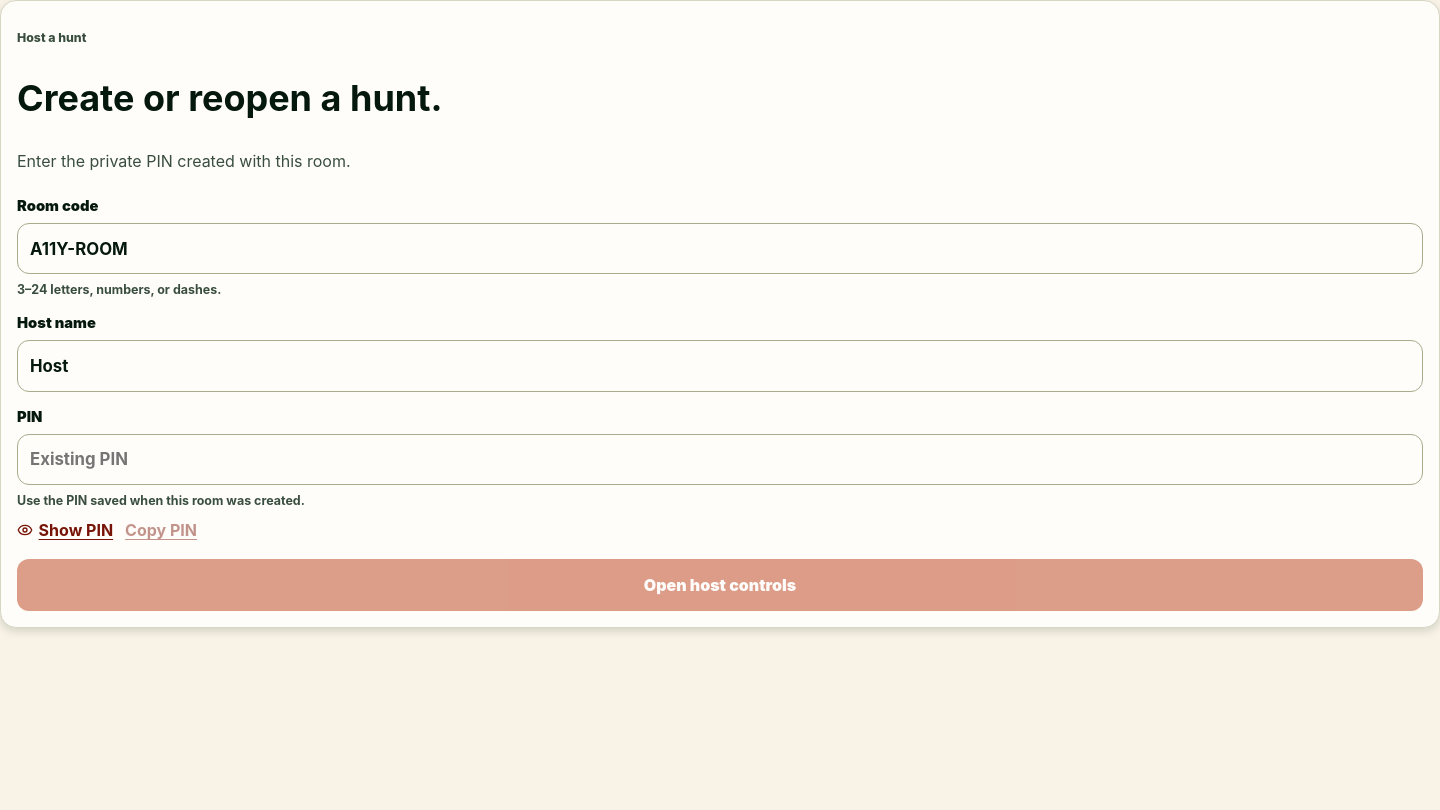
Test case: focused interaction accessibility › reveals and copies the host PIN with clear state and feedback
This screenshot has width=1440, height=810.
Step 1. Type "24681012" into the password field labelled "PIN" → (720,459), box [17, 434, 1423, 485]
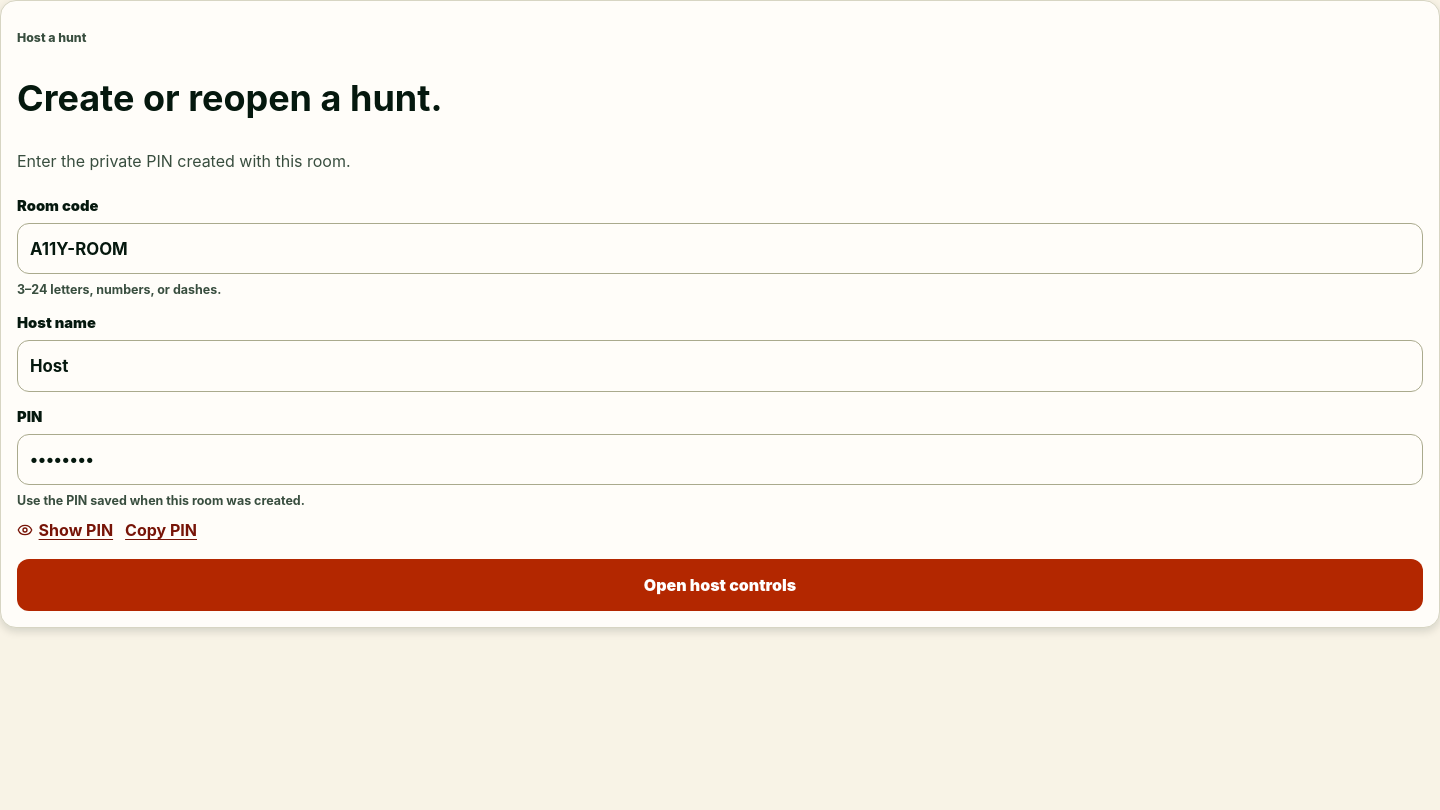
Step 2. Click the button "Show PIN" → (65,530), box [17, 517, 113, 543]
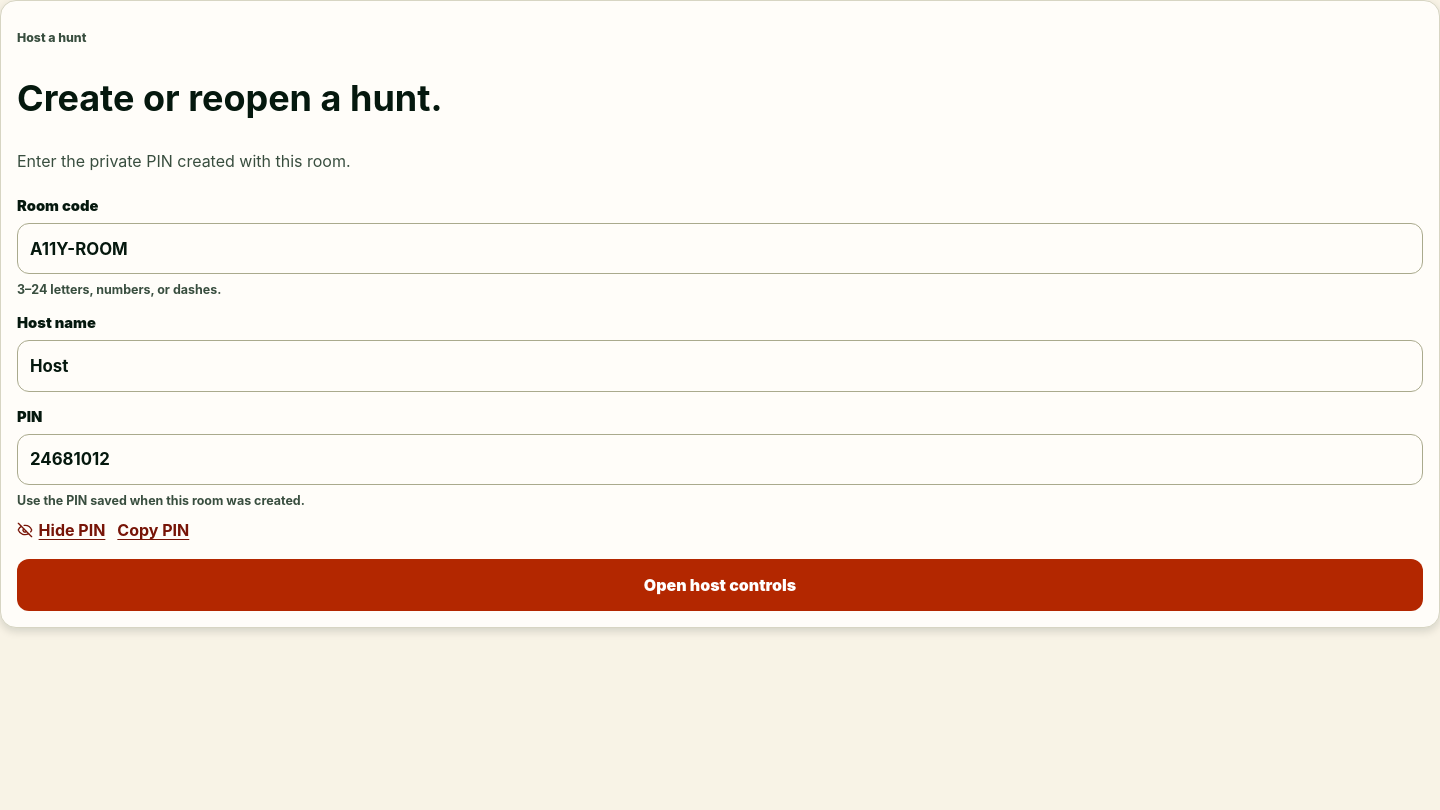
Check: the button "Hide PIN" is pressed, box [17, 517, 105, 543]
Step 3. Click the button "Copy PIN" → (153,530), box [117, 517, 189, 543]
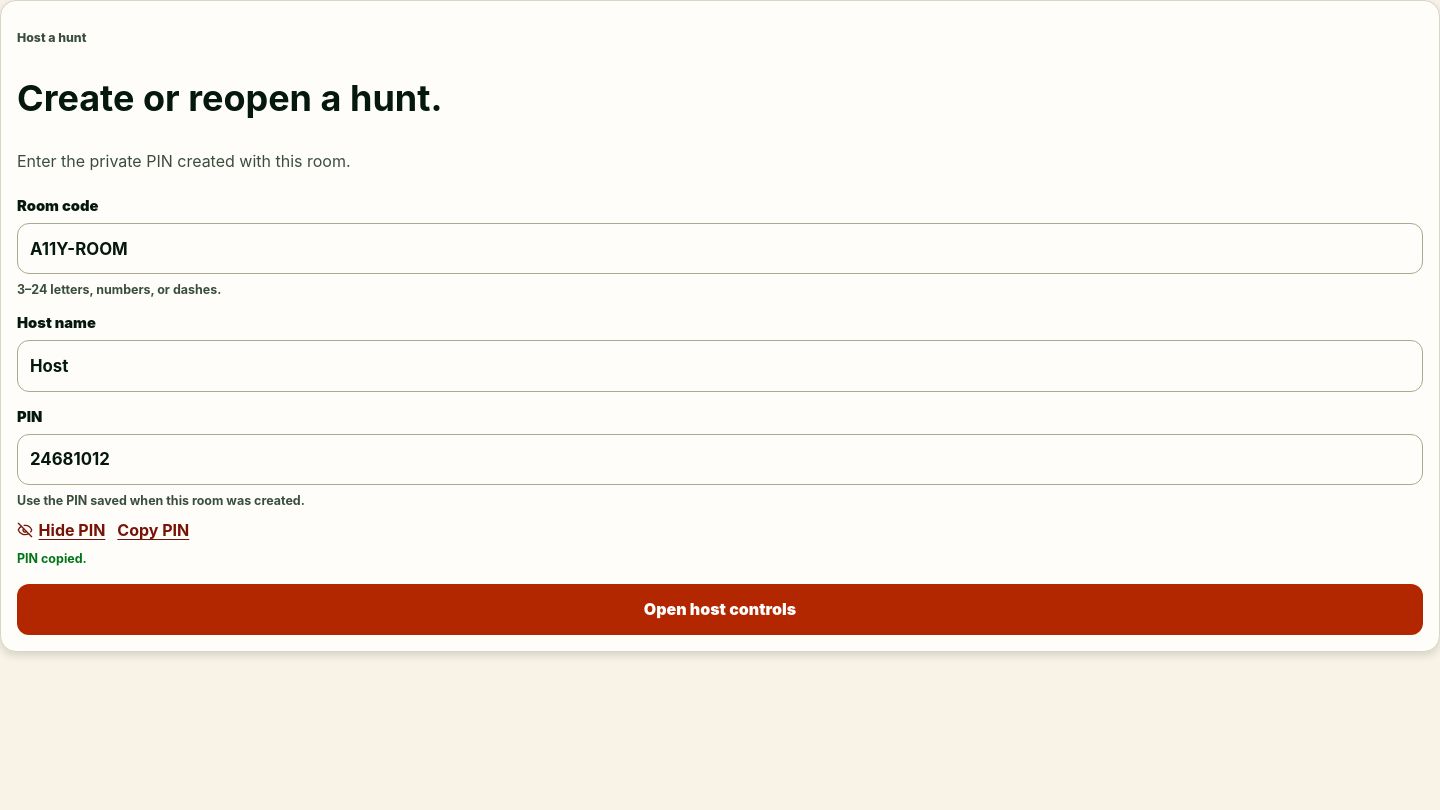
Check: the message reads "PIN copied.", box [17, 551, 87, 566]
